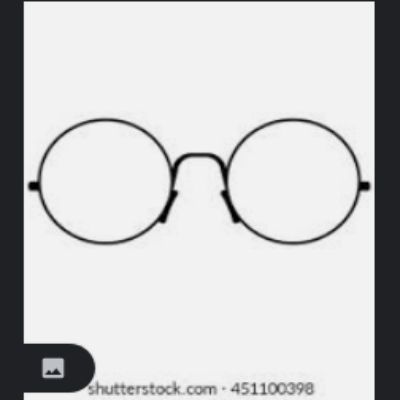glasses: (25, 112, 372, 253)
